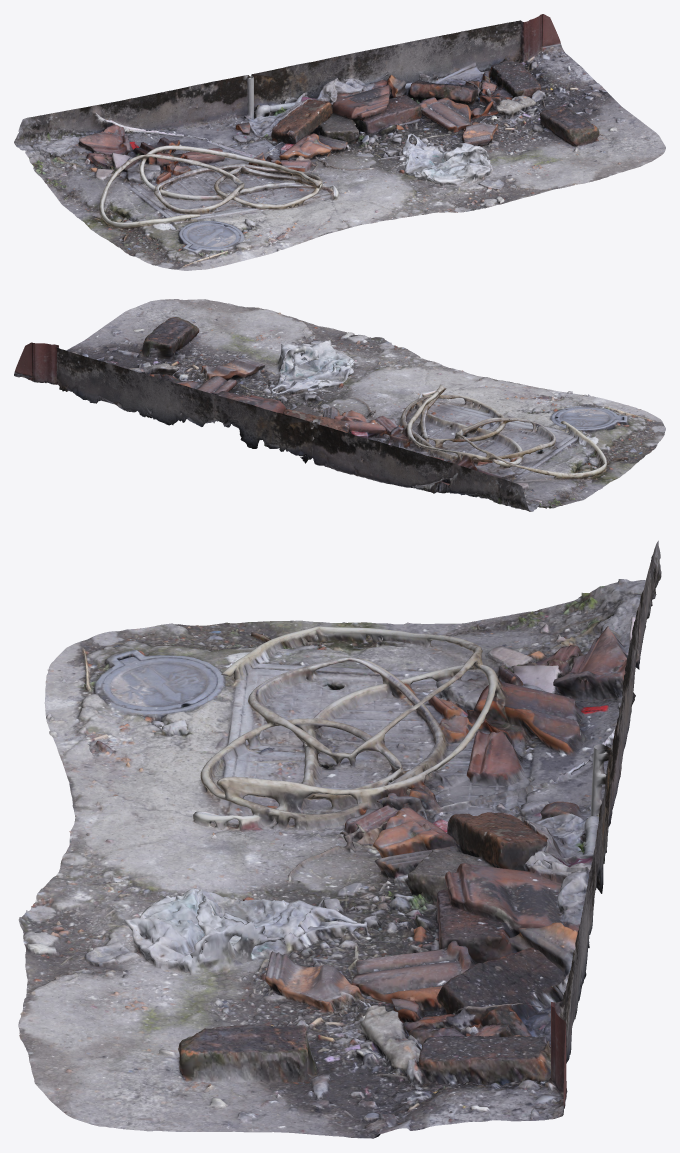
The model's file is Rubble2.fbx.
The picture shows the model from 3 angles, top to bottom: view 1: azimuth 30°, elevation 25°; view 2: azimuth 150°, elevation 25°; view 3: azimuth 270°, elevation 25°; orthographic projection. The views are drawn at different scales.
Visible parts, largest first — view 1: Scan Garbage pile in the corner2; view 2: Scan Garbage pile in the corner2; view 3: Scan Garbage pile in the corner2.
Part boxes in pixels (bbox=[...]): Scan Garbage pile in the corner2: bbox=[14, 14, 665, 270]; Scan Garbage pile in the corner2: bbox=[14, 299, 665, 511]; Scan Garbage pile in the corner2: bbox=[18, 540, 661, 1138].
Bounding box in the file's own units: 192 × 17.29 × 101.
1 material, 1 textured.
